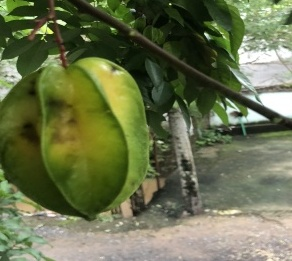Khe: (1, 45, 153, 227)
